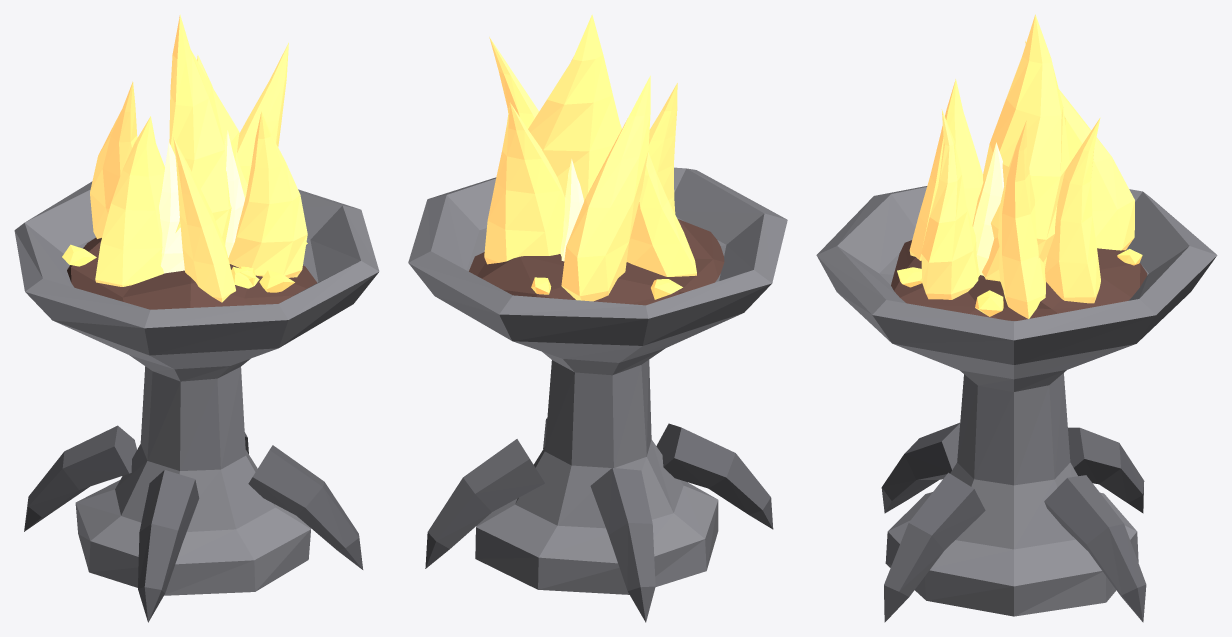
File: Brazier_DragonClaw_v2.glb
3 renders of one model, left to right at view 1: azimuth 30°, elevation 25°; view 2: azimuth 150°, elevation 25°; view 3: azimuth 270°, elevation 25°, orthographic. The views are drawn at different scales.
Visible parts, largest first — view 1: Stone, Flame, Claws, Coals, FlameCore, Embers; view 2: Stone, Flame, Claws, Coals, FlameCore, Embers; view 3: Stone, Flame, Claws, Coals, FlameCore, Embers.
Part boxes in pixels (bbox=[...]): Stone: bbox=[14, 181, 379, 595]; Flame: bbox=[90, 14, 307, 302]; Claws: bbox=[24, 425, 363, 622]; Coals: bbox=[67, 237, 316, 309]; FlameCore: bbox=[159, 130, 244, 273]; Embers: bbox=[62, 242, 307, 292]; Stone: bbox=[408, 167, 787, 594]; Flame: bbox=[484, 14, 696, 301]; Claws: bbox=[425, 418, 773, 622]; Coals: bbox=[469, 219, 724, 305]; FlameCore: bbox=[560, 159, 583, 261]; Embers: bbox=[531, 277, 682, 299]; Stone: bbox=[816, 186, 1217, 616]; Flame: bbox=[909, 14, 1134, 318]; Claws: bbox=[881, 422, 1146, 622]; Coals: bbox=[891, 240, 1147, 320]; FlameCore: bbox=[973, 142, 1003, 275]; Embers: bbox=[897, 249, 1142, 316].
Bounding box in the file's own units: 3.98 × 6 × 3.95.
